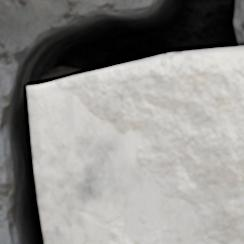brick: (29, 47, 243, 243)
crack: (2, 0, 241, 243)
